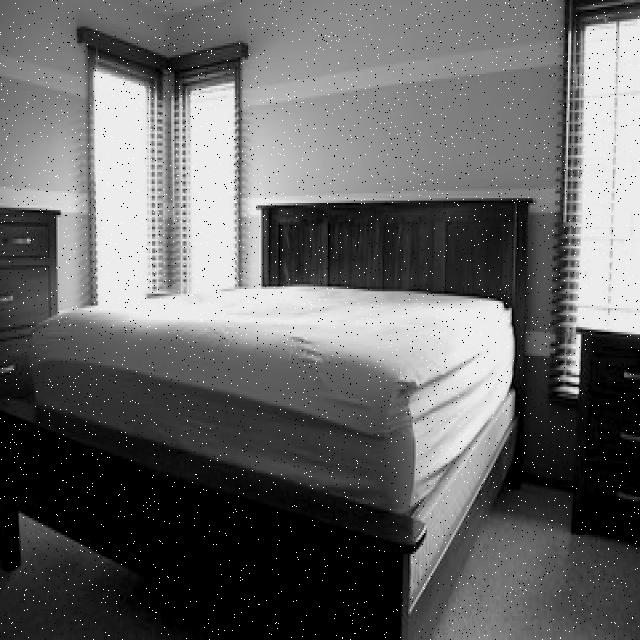bed: (37, 190, 531, 533)
